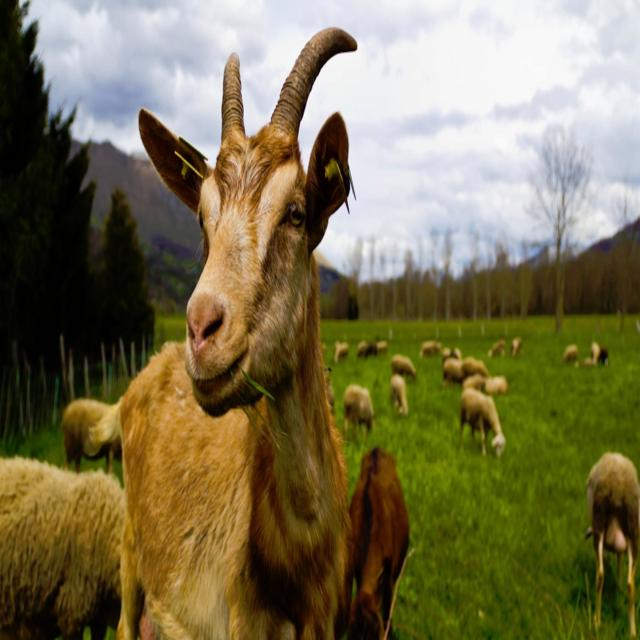Goat: (100, 28, 360, 640)
